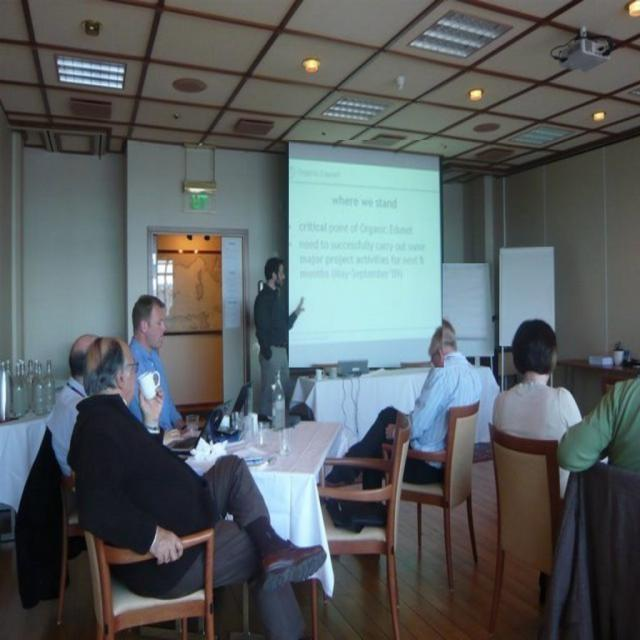Kursi: (309, 412, 409, 639), (398, 398, 481, 589)
